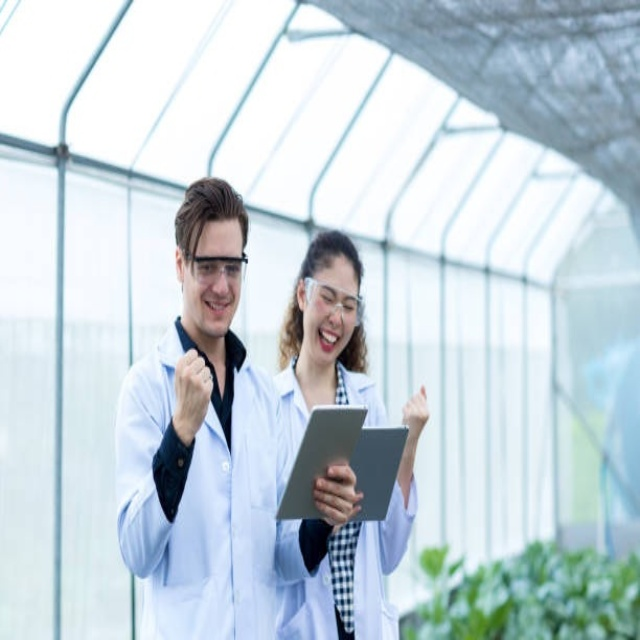Gafas: (304, 276, 362, 323), (185, 248, 249, 286)
Sin_guantes: (313, 463, 362, 528), (173, 344, 210, 427), (399, 381, 431, 435)
Sin_mascara: (317, 327, 340, 352), (203, 299, 233, 318)
